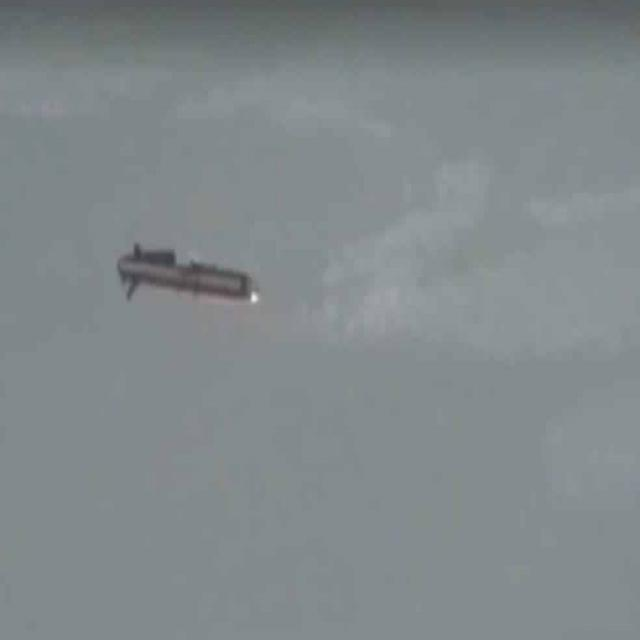missile: (113, 236, 258, 324)
